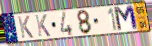1: (107, 7, 118, 32)
4: (60, 11, 74, 37)
8: (76, 10, 93, 36)
K: (16, 15, 35, 39), (34, 13, 52, 38)
M: (113, 5, 140, 33)
